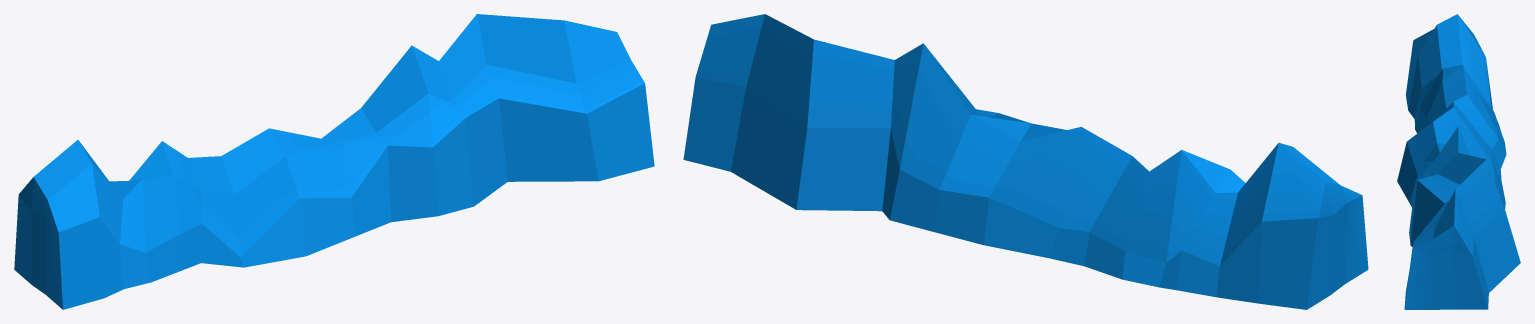
File: BG_Row2.fbx
The picture shows the model from 3 angles, left to right: view 1: azimuth 30°, elevation 25°; view 2: azimuth 150°, elevation 25°; view 3: azimuth 270°, elevation 25°; orthographic projection. The views are drawn at different scales.
Visible parts, largest first — view 1: Row 3; view 2: Row 3; view 3: Row 3.
Part boxes in pixels (bbox=[...]): Row 3: bbox=[14, 14, 654, 309]; Row 3: bbox=[683, 14, 1368, 309]; Row 3: bbox=[1397, 14, 1520, 309].
Size of the model in its own units: 1526 by 364 by 371.
